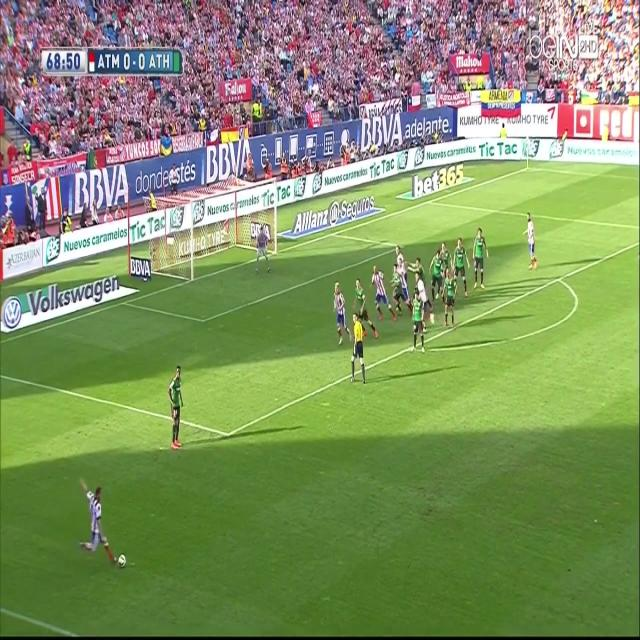Ball: (115, 552, 127, 572)
Goalkeeper: (252, 222, 272, 276)
Player: (76, 474, 116, 564), (166, 364, 188, 454), (351, 272, 379, 341), (369, 262, 397, 324), (332, 280, 350, 350), (472, 225, 491, 291), (522, 212, 542, 272), (440, 264, 458, 326), (453, 236, 471, 298), (392, 262, 412, 315), (427, 247, 443, 301), (411, 291, 423, 355), (440, 241, 454, 272), (413, 270, 429, 296), (395, 244, 407, 278)
Referee: (348, 310, 367, 386)
